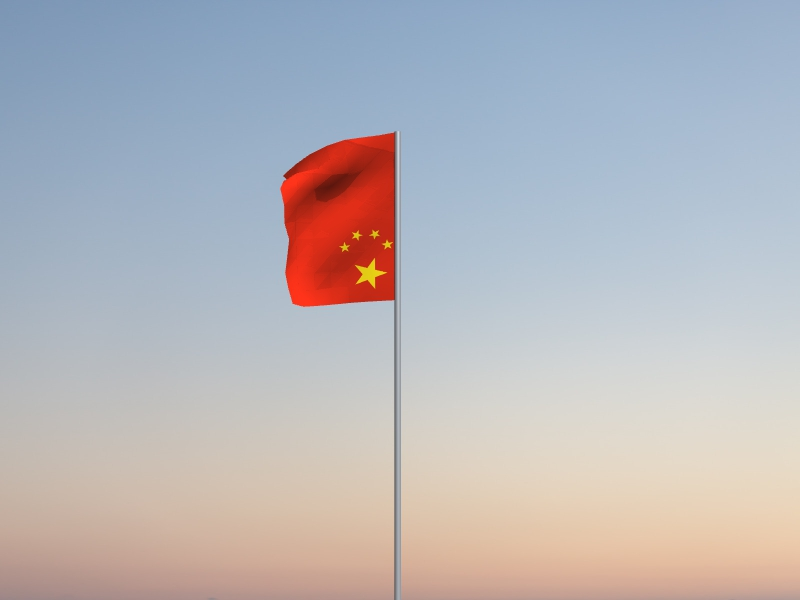cn: (280, 133, 395, 309)
